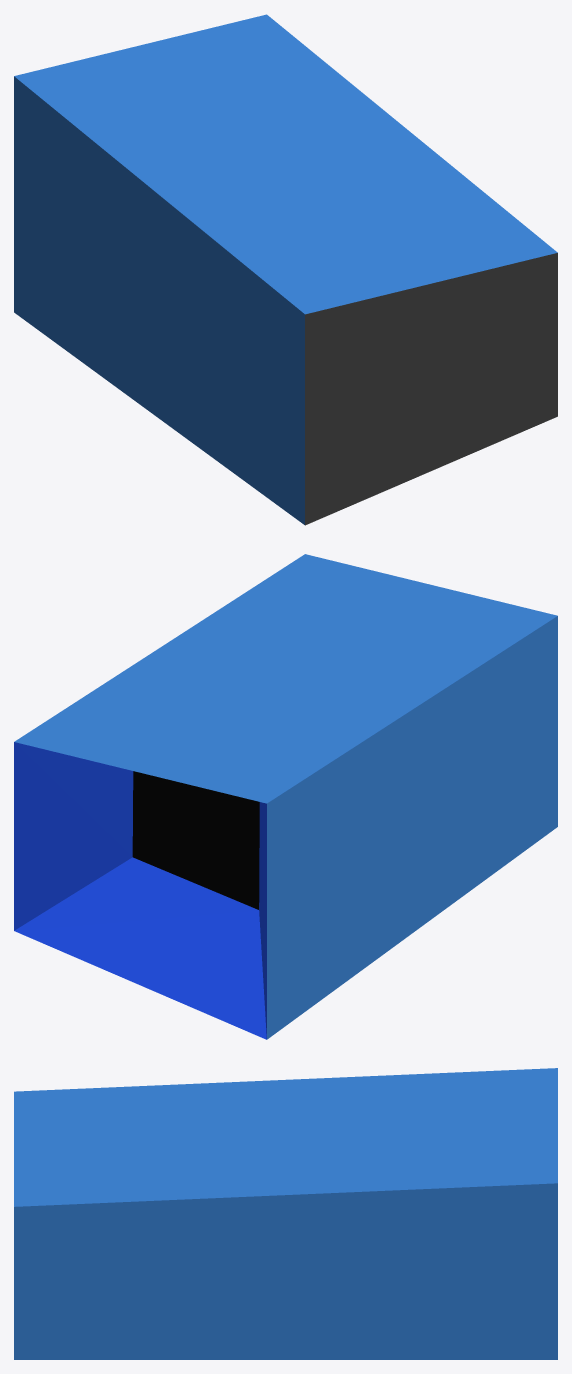
File: Gun.FBX
3 renders of one model, top to bottom at view 1: azimuth 30°, elevation 25°; view 2: azimuth 150°, elevation 25°; view 3: azimuth 270°, elevation 25°, orthographic. The views are drawn at different scales.
Visible parts, largest first — view 1: VIFS001, VIFS002; view 2: VIFS001, VIFS003, VIFS004; view 3: VIFS001.
Part boxes in pixels (left/top/right/bottom): VIFS001: left=14, top=14, right=557, bottom=524; VIFS002: left=305, top=253, right=557, bottom=525; VIFS001: left=14, top=554, right=557, bottom=1039; VIFS003: left=14, top=742, right=266, bottom=1039; VIFS004: left=132, top=771, right=259, bottom=909; VIFS001: left=14, top=1068, right=557, bottom=1359.
Bounding box in the file's own units: 0.168 × 0.15 × 0.335.
